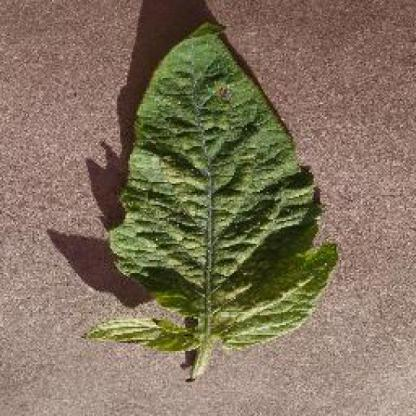Tomato_Spider_Mites: (86, 23, 336, 345)
